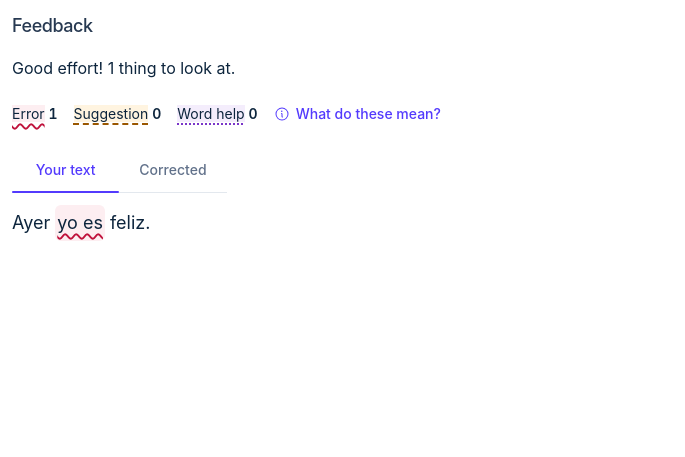
it: FeedbackView detail panel › shows the correction, category and explanation and moves focus into the panel
The width and height of the screenshot is (685, 457).
What coordinates should you click on to do the following:
click the button "yo es"
I would click on:
 (80, 223)
Its box is [55,205,105,241].
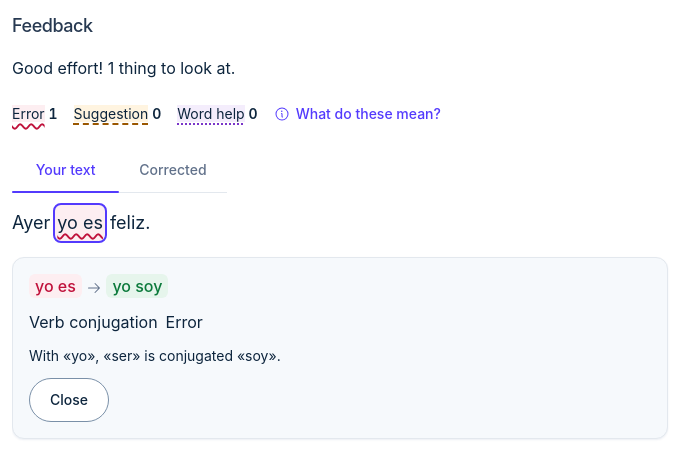
Check: the element named "yo es should be yo soy" shows "With «yo», «ser» is conjugated «soy».", box [29,347,281,364]
